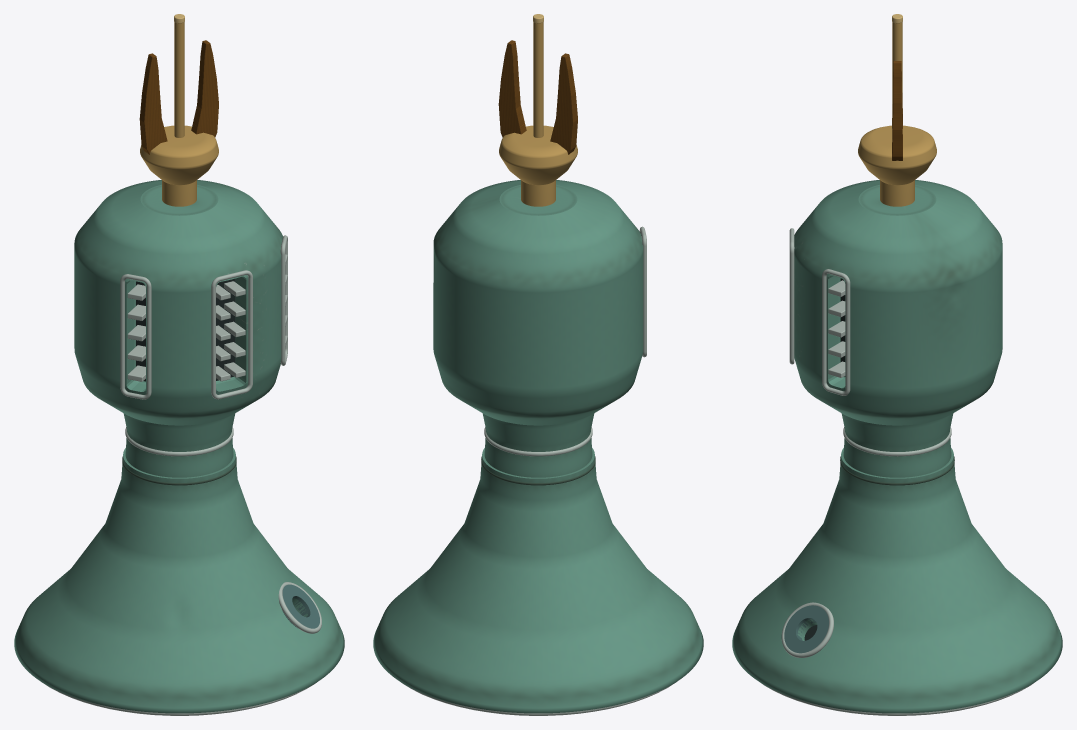
3 renders of one model, left to right at view 1: azimuth 30°, elevation 25°; view 2: azimuth 150°, elevation 25°; view 3: azimuth 270°, elevation 25°, orthographic.
Visible parts, largest first — view 1: RI05 flared mounting pedestal, RI05 rounded vented head, RI05 narrow structural neck, RI05 crown flared fork bowl, RI05 refined crown arm left, RI05 refined crown arm right, RI05 vent 1 continuous retaining frame, RI05 vent 0 continuous retaining frame, RI05 crown central conductor, RI05 pedestal circular inspection face, RI05 vent 2 continuous retaining frame, RI05 crown solid mounting stem (+4 smaller); view 2: RI05 flared mounting pedestal, RI05 rounded vented head, RI05 narrow structural neck, RI05 crown flared fork bowl, RI05 refined crown arm left, RI05 refined crown arm right, RI05 crown central conductor, RI05 crown solid mounting stem, RI05 ground contact rim, RI05 neck machined collar, RI05 vent 0 continuous retaining frame; view 3: RI05 flared mounting pedestal, RI05 rounded vented head, RI05 narrow structural neck, RI05 crown flared fork bowl, RI05 vent 2 continuous retaining frame, RI05 pedestal circular inspection face, RI05 refined crown arm right, RI05 vent 1 continuous retaining frame, RI05 crown solid mounting stem, RI05 ground contact rim, RI05 pedestal worn retaining ring, RI05 neck machined collar (+1 smaller).
Part boxes in pixels (x1=…): RI05 flared mounting pedestal: x1=14, y1=448, x2=344, y2=713; RI05 rounded vented head: x1=74, y1=180, x2=283, y2=425; RI05 narrow structural neck: x1=123, y1=413, x2=235, y2=477; RI05 crown flared fork bowl: x1=140, y1=125, x2=218, y2=185; RI05 refined crown arm left: x1=139, y1=53, x2=167, y2=154; RI05 refined crown arm right: x1=191, y1=40, x2=218, y2=137; RI05 vent 1 continuous retaining frame: x1=211, y1=270, x2=252, y2=399; RI05 vent 0 continuous retaining frame: x1=120, y1=274, x2=151, y2=399; RI05 crown central conductor: x1=174, y1=22, x2=184, y2=137; RI05 pedestal circular inspection face: x1=282, y1=584, x2=319, y2=628; RI05 vent 2 continuous retaining frame: x1=280, y1=235, x2=287, y2=365; RI05 crown solid mounting stem: x1=162, y1=180, x2=196, y2=206; RI05 flared mounting pedestal: x1=373, y1=448, x2=703, y2=713; RI05 rounded vented head: x1=433, y1=180, x2=643, y2=425; RI05 narrow structural neck: x1=482, y1=413, x2=594, y2=477; RI05 crown flared fork bowl: x1=499, y1=125, x2=577, y2=185; RI05 refined crown arm left: x1=550, y1=53, x2=577, y2=154; RI05 refined crown arm right: x1=498, y1=40, x2=526, y2=137; RI05 crown central conductor: x1=533, y1=22, x2=543, y2=137; RI05 crown solid mounting stem: x1=521, y1=180, x2=555, y2=206; RI05 ground contact rim: x1=401, y1=682, x2=675, y2=715; RI05 neck machined collar: x1=484, y1=427, x2=592, y2=456; RI05 vent 0 continuous retaining frame: x1=639, y1=226, x2=646, y2=357; RI05 flared mounting pedestal: x1=732, y1=448, x2=1062, y2=713; RI05 rounded vented head: x1=794, y1=180, x2=1002, y2=425; RI05 narrow structural neck: x1=841, y1=413, x2=953, y2=477; RI05 crown flared fork bowl: x1=858, y1=125, x2=936, y2=185; RI05 vent 2 continuous retaining frame: x1=822, y1=269, x2=850, y2=395; RI05 pedestal circular inspection face: x1=784, y1=605, x2=828, y2=653; RI05 refined crown arm right: x1=892, y1=61, x2=902, y2=160; RI05 vent 1 continuous retaining frame: x1=789, y1=228, x2=794, y2=364; RI05 crown solid mounting stem: x1=880, y1=180, x2=914, y2=206; RI05 ground contact rim: x1=761, y1=683, x2=1033, y2=715; RI05 pedestal worn retaining ring: x1=781, y1=602, x2=833, y2=657; RI05 neck machined collar: x1=843, y1=427, x2=951, y2=456.
Size of the model in its own units: 1.7 by 3.64 by 1.7.
Materials: 9 (3 with a texture image).
